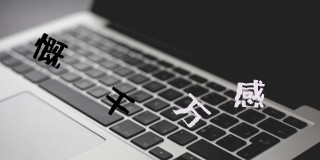万: (172, 92, 212, 129)
千: (101, 86, 135, 119)
感: (232, 76, 268, 111)
慨: (33, 32, 68, 72)
